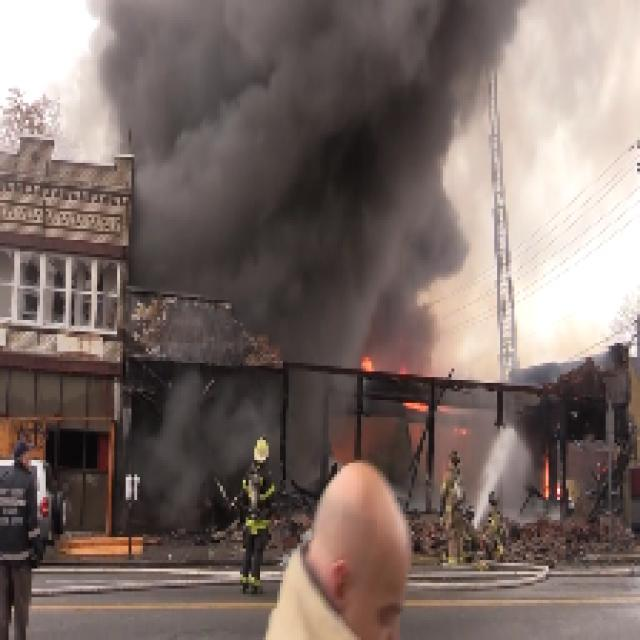Smoke: (137, 2, 480, 298), (508, 2, 638, 292), (148, 380, 245, 523), (286, 306, 363, 460)
